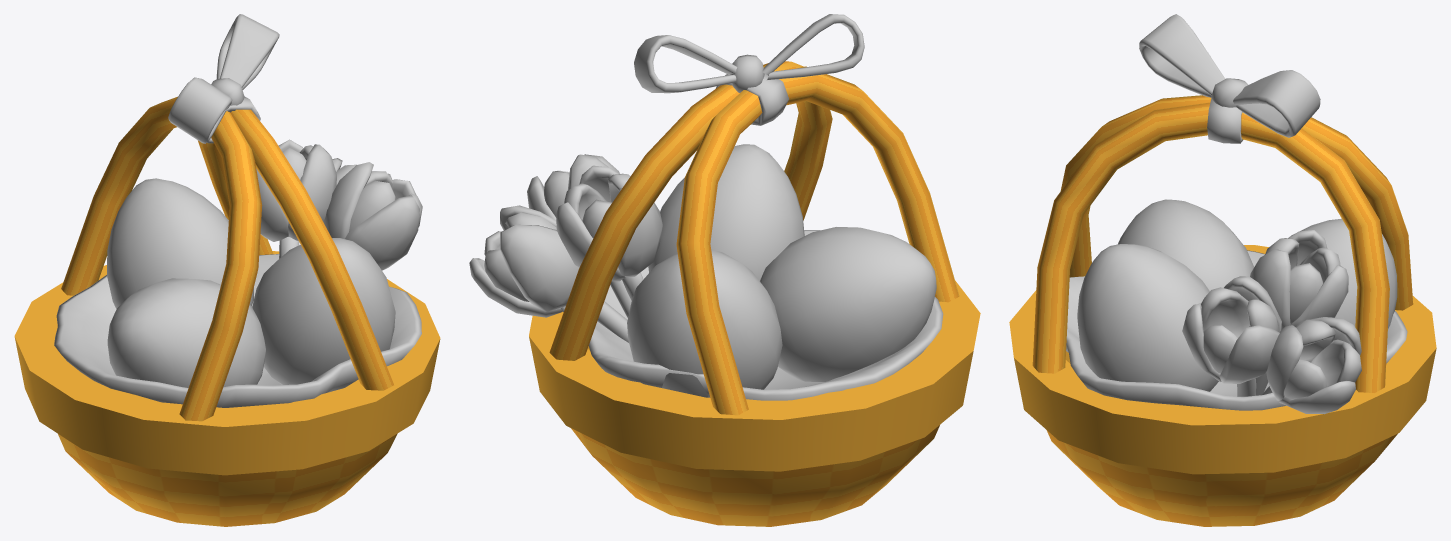
Rendered from basket.fbx.
3 views of the same model, side by side, from view 1: azimuth 30°, elevation 25°; view 2: azimuth 150°, elevation 25°; view 3: azimuth 270°, elevation 25° (orthographic). The views are drawn at different scales.
Parts seen in each view (by area): view 1: Easter_Picnic_Pack.559, Easter_Picnic_Pack.560, Easter_Picnic_Pack.558, Easter_Picnic_Pack.535, Easter_Picnic_Pack.536, Easter_Picnic_Pack.534, Easter_Picnic_Pack.566, Easter_Picnic_Pack.561, Easter_Picnic_Pack.553, Easter_Picnic_Pack.563, Easter_Picnic_Pack.564, Easter_Picnic_Pack.555 (+4 smaller); view 2: Easter_Picnic_Pack.559, Easter_Picnic_Pack.536, Easter_Picnic_Pack.560, Easter_Picnic_Pack.558, Easter_Picnic_Pack.561, Easter_Picnic_Pack.534, Easter_Picnic_Pack.535, Easter_Picnic_Pack.566, Easter_Picnic_Pack.543, Easter_Picnic_Pack.563, Easter_Picnic_Pack.564, Easter_Picnic_Pack.546 (+12 smaller); view 3: Easter_Picnic_Pack.559, Easter_Picnic_Pack.561, Easter_Picnic_Pack.535, Easter_Picnic_Pack.558, Easter_Picnic_Pack.560, Easter_Picnic_Pack.536, Easter_Picnic_Pack.566, Easter_Picnic_Pack.564, Easter_Picnic_Pack.563, Easter_Picnic_Pack.534, Easter_Picnic_Pack.557, Easter_Picnic_Pack.550 (+17 smaller).
Part boxes in pixels (x1=…): Easter_Picnic_Pack.559: x1=14, y1=251, x2=440, y2=475; Easter_Picnic_Pack.560: x1=61, y1=96, x2=262, y2=421; Easter_Picnic_Pack.558: x1=58, y1=433, x2=397, y2=526; Easter_Picnic_Pack.535: x1=252, y1=238, x2=395, y2=392; Easter_Picnic_Pack.536: x1=107, y1=278, x2=265, y2=387; Easter_Picnic_Pack.534: x1=107, y1=178, x2=253, y2=309; Easter_Picnic_Pack.566: x1=54, y1=254, x2=421, y2=407; Easter_Picnic_Pack.561: x1=198, y1=109, x2=393, y2=390; Easter_Picnic_Pack.553: x1=345, y1=195, x2=419, y2=270; Easter_Picnic_Pack.563: x1=216, y1=14, x2=279, y2=89; Easter_Picnic_Pack.564: x1=168, y1=77, x2=232, y2=143; Easter_Picnic_Pack.555: x1=323, y1=162, x2=373, y2=238; Easter_Picnic_Pack.559: x1=529, y1=280, x2=980, y2=471; Easter_Picnic_Pack.536: x1=760, y1=227, x2=936, y2=381; Easter_Picnic_Pack.560: x1=676, y1=66, x2=959, y2=415; Easter_Picnic_Pack.558: x1=571, y1=425, x2=939, y2=526; Easter_Picnic_Pack.561: x1=549, y1=61, x2=832, y2=360; Easter_Picnic_Pack.534: x1=627, y1=250, x2=782, y2=397; Easter_Picnic_Pack.535: x1=648, y1=144, x2=804, y2=280; Easter_Picnic_Pack.566: x1=561, y1=230, x2=943, y2=400; Easter_Picnic_Pack.543: x1=500, y1=224, x2=579, y2=311; Easter_Picnic_Pack.563: x1=634, y1=35, x2=737, y2=93; Easter_Picnic_Pack.564: x1=762, y1=14, x2=864, y2=79; Easter_Picnic_Pack.546: x1=618, y1=188, x2=662, y2=276; Easter_Picnic_Pack.559: x1=1009, y1=245, x2=1436, y2=474; Easter_Picnic_Pack.561: x1=1032, y1=102, x2=1389, y2=392; Easter_Picnic_Pack.535: x1=1077, y1=244, x2=1218, y2=391; Easter_Picnic_Pack.558: x1=1046, y1=430, x2=1397, y2=526; Easter_Picnic_Pack.560: x1=1060, y1=95, x2=1413, y2=310; Easter_Picnic_Pack.536: x1=1117, y1=199, x2=1254, y2=290; Easter_Picnic_Pack.566: x1=1066, y1=250, x2=1407, y2=410; Easter_Picnic_Pack.564: x1=1139, y1=14, x2=1225, y2=97; Easter_Picnic_Pack.563: x1=1233, y1=70, x2=1320, y2=137; Easter_Picnic_Pack.534: x1=1290, y1=218, x2=1397, y2=328; Easter_Picnic_Pack.557: x1=1219, y1=325, x2=1279, y2=383; Easter_Picnic_Pack.550: x1=1250, y1=249, x2=1290, y2=329.
Size of the model in its own units: 241 by 249 by 224.
